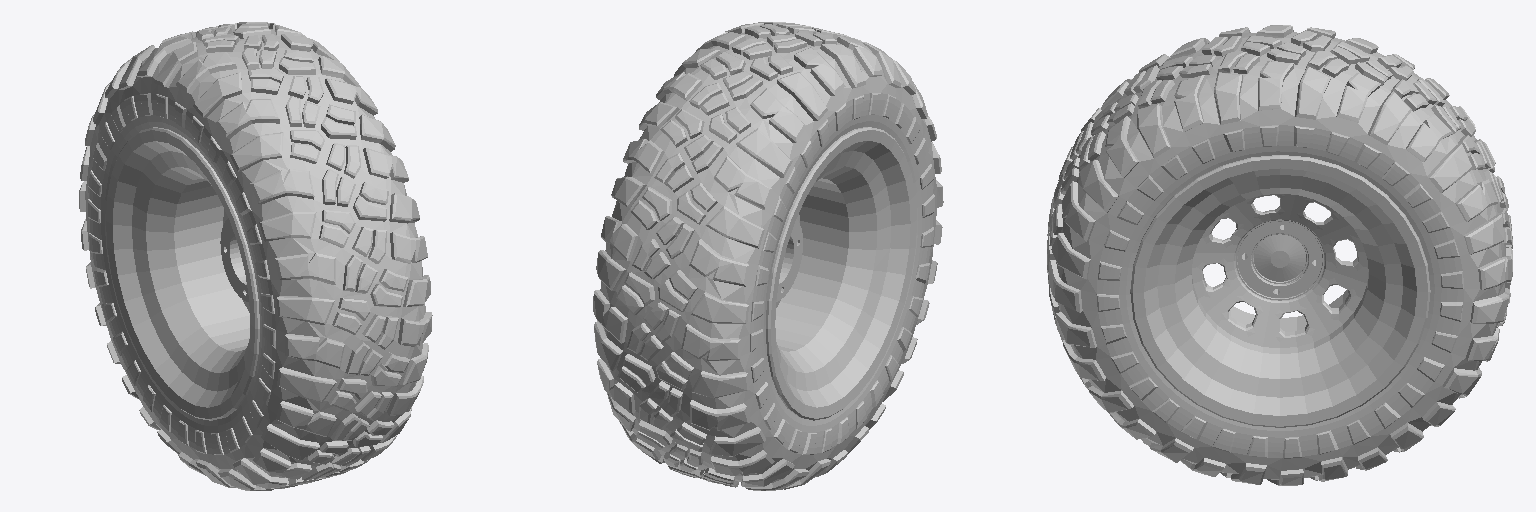
Rendered from Wheel.obj.
The picture shows the model from 3 angles: view 1: azimuth 30°, elevation 25°; view 2: azimuth 150°, elevation 25°; view 3: azimuth 270°, elevation 25°; orthographic projection.
Visible parts, largest first — view 1: off; view 2: off; view 3: off.
Boxes of the visible parts, x1=… form: off: x1=79, y1=22, x2=432, y2=490; off: x1=593, y1=22, x2=943, y2=490; off: x1=1047, y1=25, x2=1512, y2=485.
Size of the model in its own units: 0.3906 by 1.03 by 1.03.